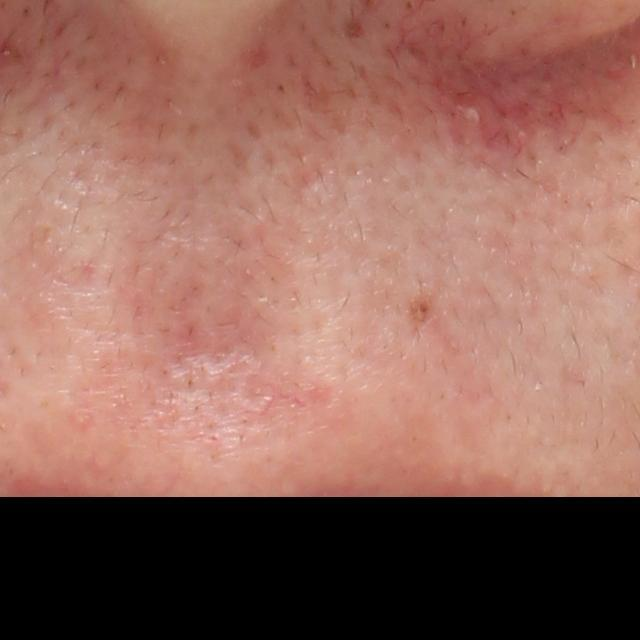nevus: (409, 294, 436, 334)
